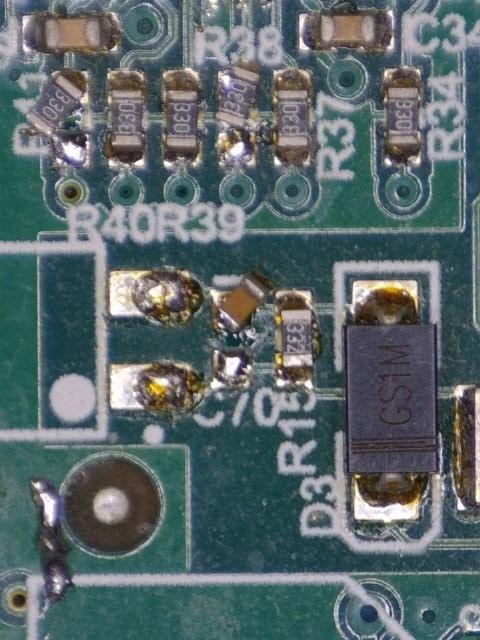pcb_defect: (24, 68, 93, 168), (213, 65, 260, 169), (212, 271, 274, 333)
